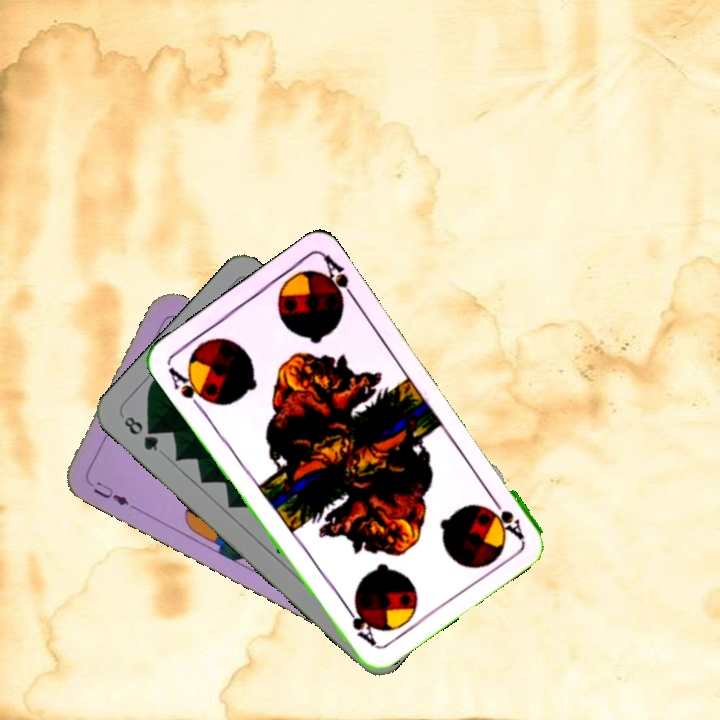EU: (83, 476, 137, 511)
G8: (119, 412, 162, 454)
SA: (164, 362, 213, 414), (484, 490, 527, 542)
